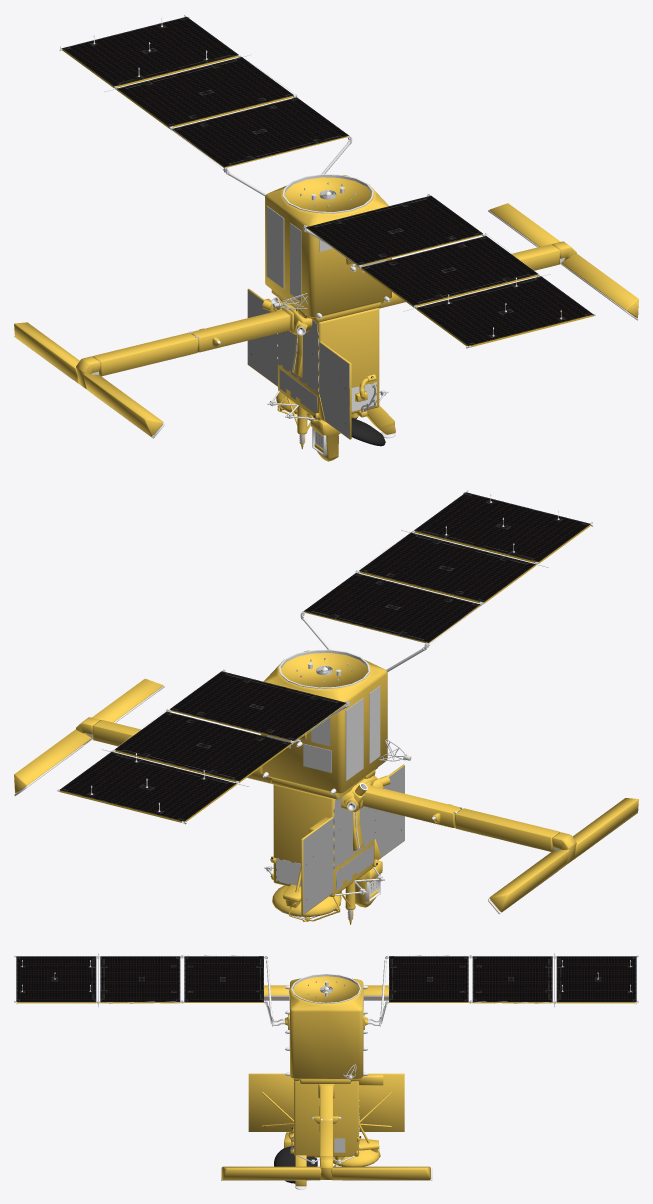
Rendered from swot.gltf.
3 views of the same model, one above another, from view 1: azimuth 30°, elevation 25°; view 2: azimuth 150°, elevation 25°; view 3: azimuth 270°, elevation 25° (orthographic). The views are drawn at different scales.
Visible parts, largest first — view 1: Cube.048, Cube.050, Cube.001, SC_2022_Gimbal_SWOT_SC_2022_cnes_bus_2021_sculpt1_cnes_bus_., Cube.024, Cube.003, Cube.026, Cube.061, SC_2022_Gimbal_SWOT_SC_2022_cnes_bus_2021_cnes_rads_2021.002, Cube.059, Cube.013; view 2: Cube.050, Cube.048, Cube.001, SC_2022_Gimbal_SWOT_SC_2022_cnes_bus_2021_sculpt1_cnes_bus_., Cube.024, Cube.003, SC_2022_Gimbal_SWOT_SC_2022_cnes_bus_2021_cnes_rads_2021.002, Cube.026, Cube.061, Cube.059, Cylinder, Cube.028; view 3: Cube.050, Cube.048, Cube.001, Cube.004, Cube.003, Cube.061, Cube.059, Cube.026, Cylinder, Cylinder.014, Cube.049, Cube.052 (+2 smaller).
Part boxes in pixels (x1,y1,x2,y2): Cube.048: (62,16,348,167); Cube.050: (306,195,593,347); Cube.001: (265,175,391,317); SC_2022_Gimbal_SWOT_SC_2022_cnes_bus_2021_sculpt1_cnes_bus_.: (247,290,349,438); Cube.024: (76,305,293,388); Cube.003: (278,308,379,420); Cube.026: (14,322,163,436); Cube.061: (489,203,638,317); SC_2022_Gimbal_SWOT_SC_2022_cnes_bus_2021_cnes_rads_2021.002: (266,206,386,300); Cube.059: (379,241,576,308); Cube.013: (310,415,340,461); Cube.050: (303,492,590,643); Cube.048: (59,671,346,823); Cube.001: (260,650,387,793); SC_2022_Gimbal_SWOT_SC_2022_cnes_bus_2021_sculpt1_cnes_bus_.: (303,765,404,914); Cube.024: (359,781,576,864); Cube.003: (273,774,374,896); SC_2022_Gimbal_SWOT_SC_2022_cnes_bus_2021_cnes_rads_2021.002: (267,686,380,780); Cube.026: (489,798,638,912); Cube.061: (14,678,163,793); Cube.059: (76,717,273,784); Cylinder: (272,885,341,916); Cube.028: (279,649,370,688); Cube.050: (16,956,263,1003); Cube.048: (389,956,636,1003); Cube.001: (289,976,363,1079); Cube.004: (248,1073,404,1131); Cube.003: (294,1081,358,1156); Cube.061: (221,1166,430,1180); Cube.059: (318,1084,334,1179); Cube.026: (264,985,388,995); Cylinder: (333,1149,379,1166); Cylinder.014: (274,1146,317,1183); Cube.049: (14,953,285,1026); Cube.052: (367,953,638,1026).
Size of the model in its own units: 9.99 by 5.22 by 14.34.
Materials: 16 (3 with a texture image).
